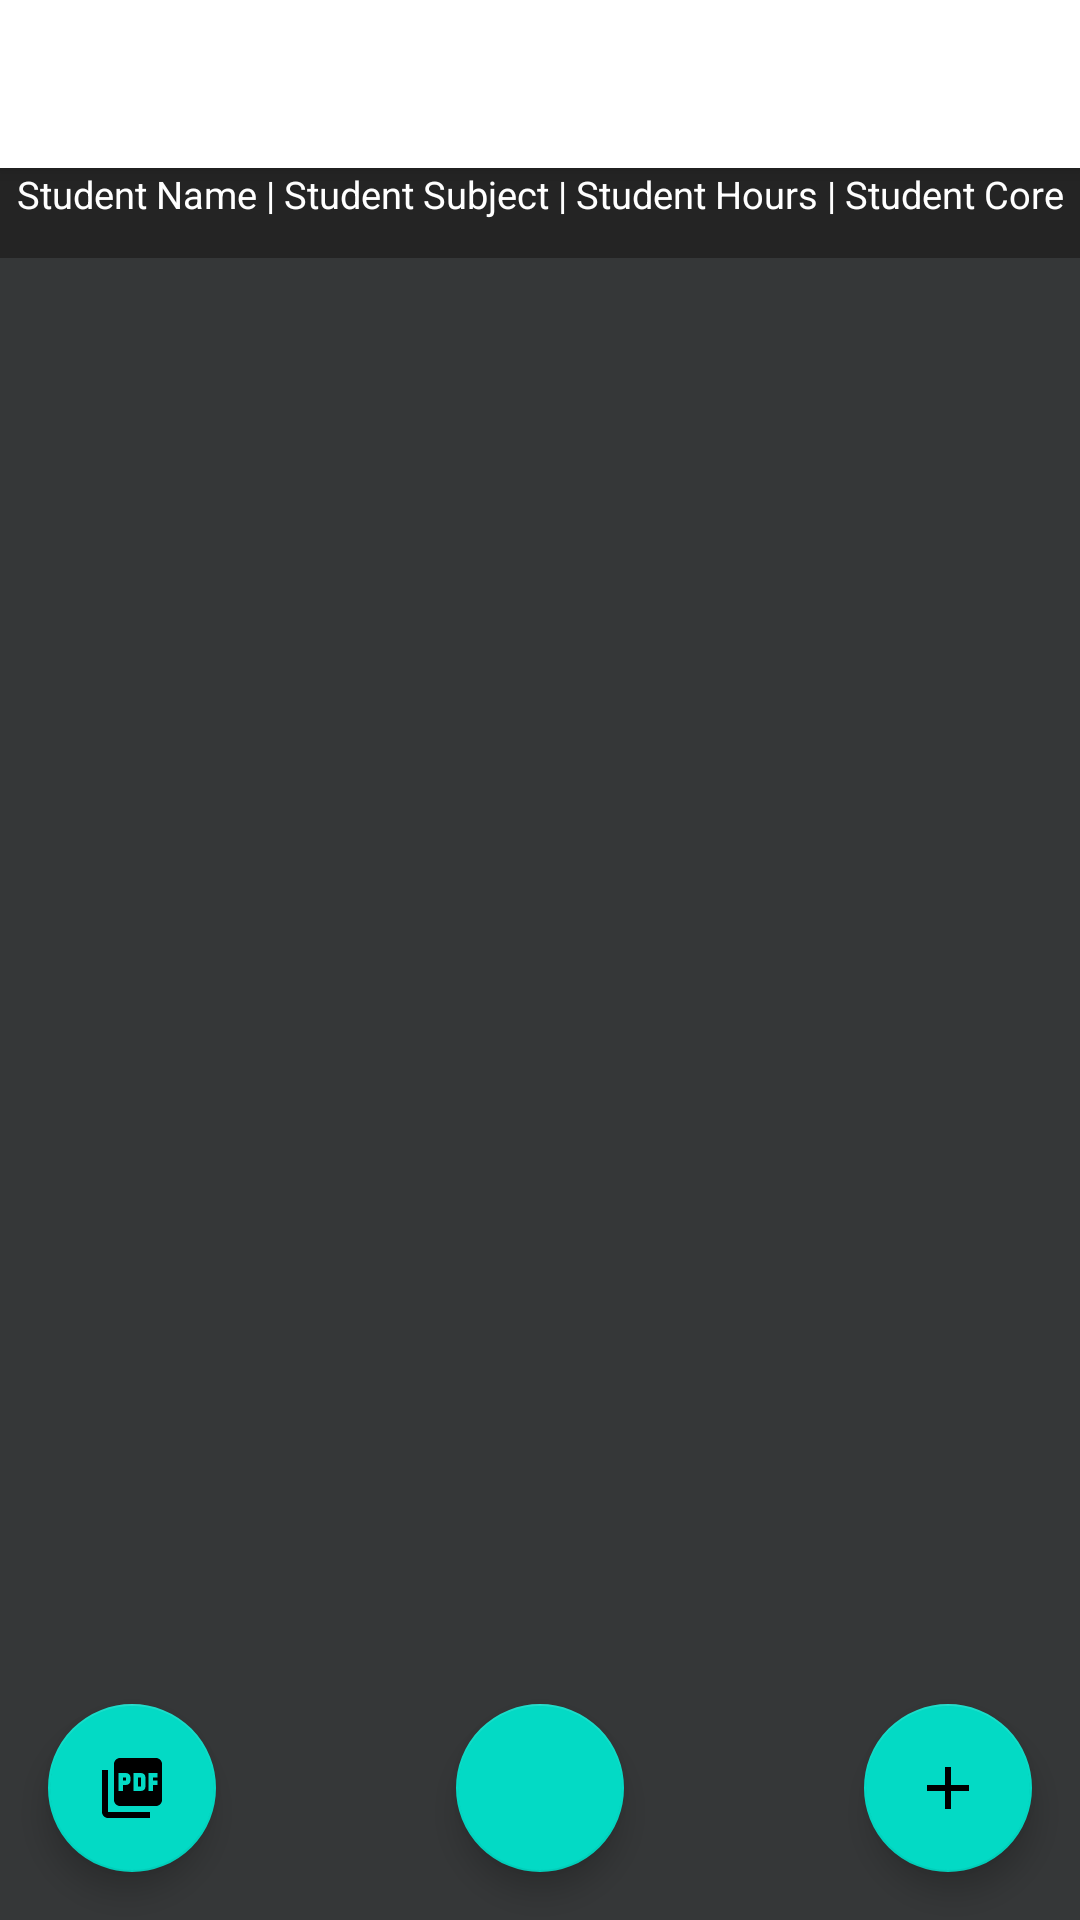

Where icons sit on this 1080*1920 app screen, as (x1, y1, x2, y2):
add: (864, 1704, 1032, 1872)
picture as pdf: (48, 1704, 216, 1872)
